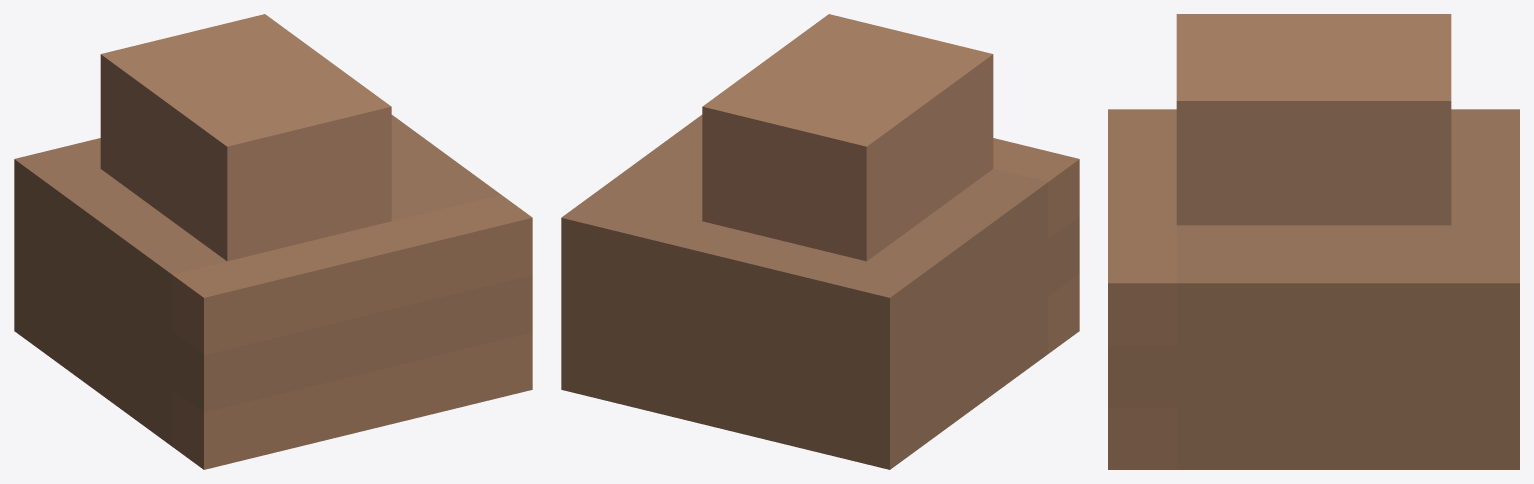
The model's file is serpentin_cobre_oxidado_01.glb.
The picture shows the model from 3 angles, left to right: view 1: azimuth 30°, elevation 25°; view 2: azimuth 150°, elevation 25°; view 3: azimuth 270°, elevation 25°; orthographic projection. The views are drawn at different scales.
Visible parts, largest first — view 1: serpentin_cobre_oxidado; view 2: serpentin_cobre_oxidado; view 3: serpentin_cobre_oxidado.
Boxes of the visible parts, bbox=[...] form: serpentin_cobre_oxidado: bbox=[14, 14, 532, 469]; serpentin_cobre_oxidado: bbox=[561, 14, 1079, 469]; serpentin_cobre_oxidado: bbox=[1108, 14, 1519, 469].
Size of the model in its own units: 0.6 by 0.5 by 0.6.
